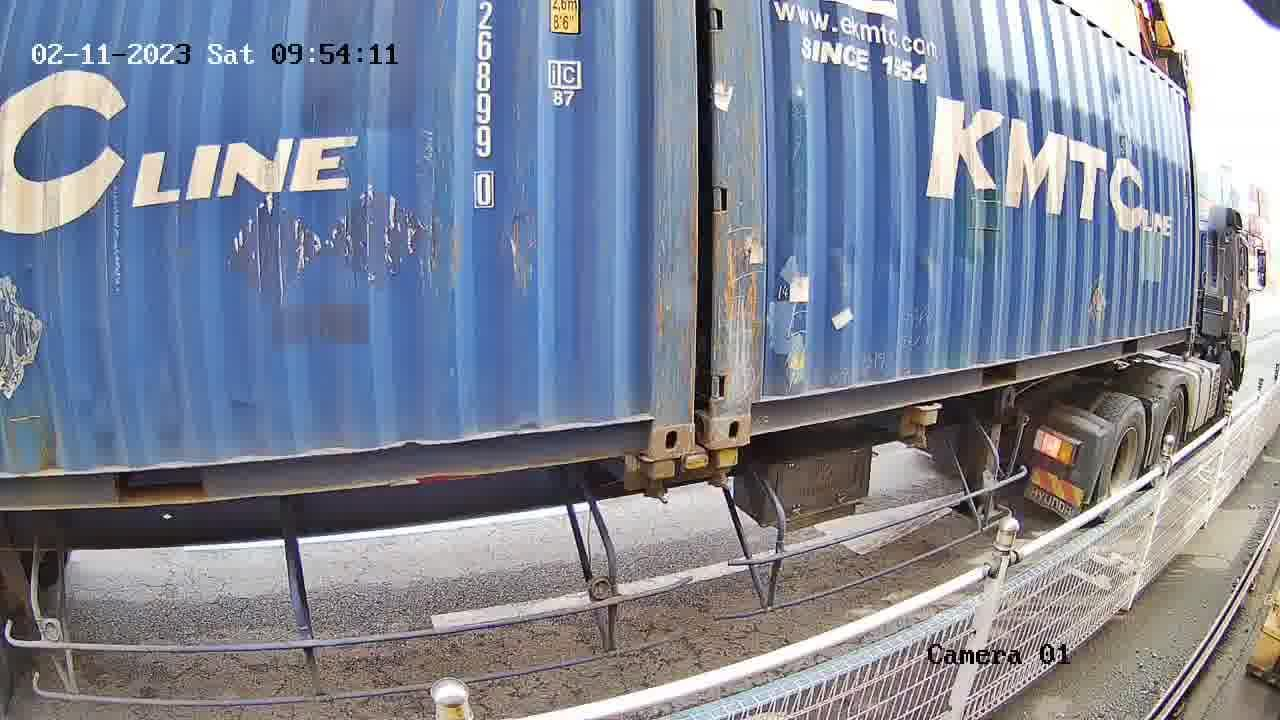Cone: (707, 447, 742, 492), (641, 461, 673, 506)
Hole_L: (711, 371, 779, 449)
Hole_R: (613, 379, 695, 464)
Tire: (1095, 401, 1147, 518), (1150, 388, 1187, 483)
